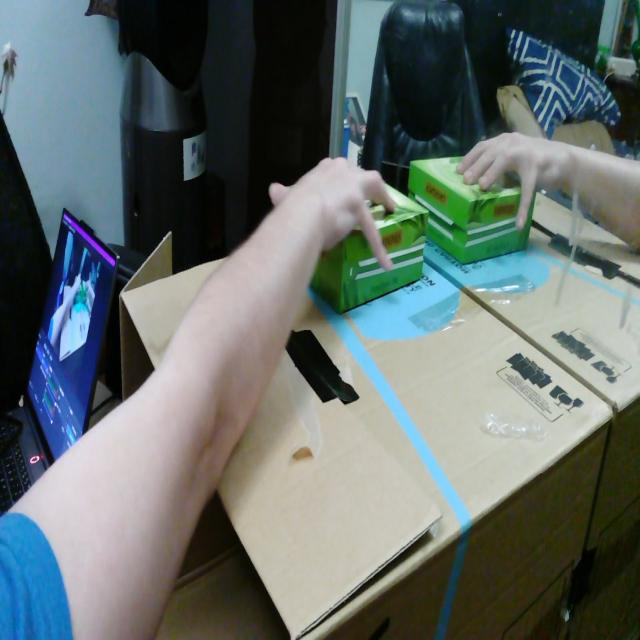twinings_greentea_box: (311, 185, 429, 313)
